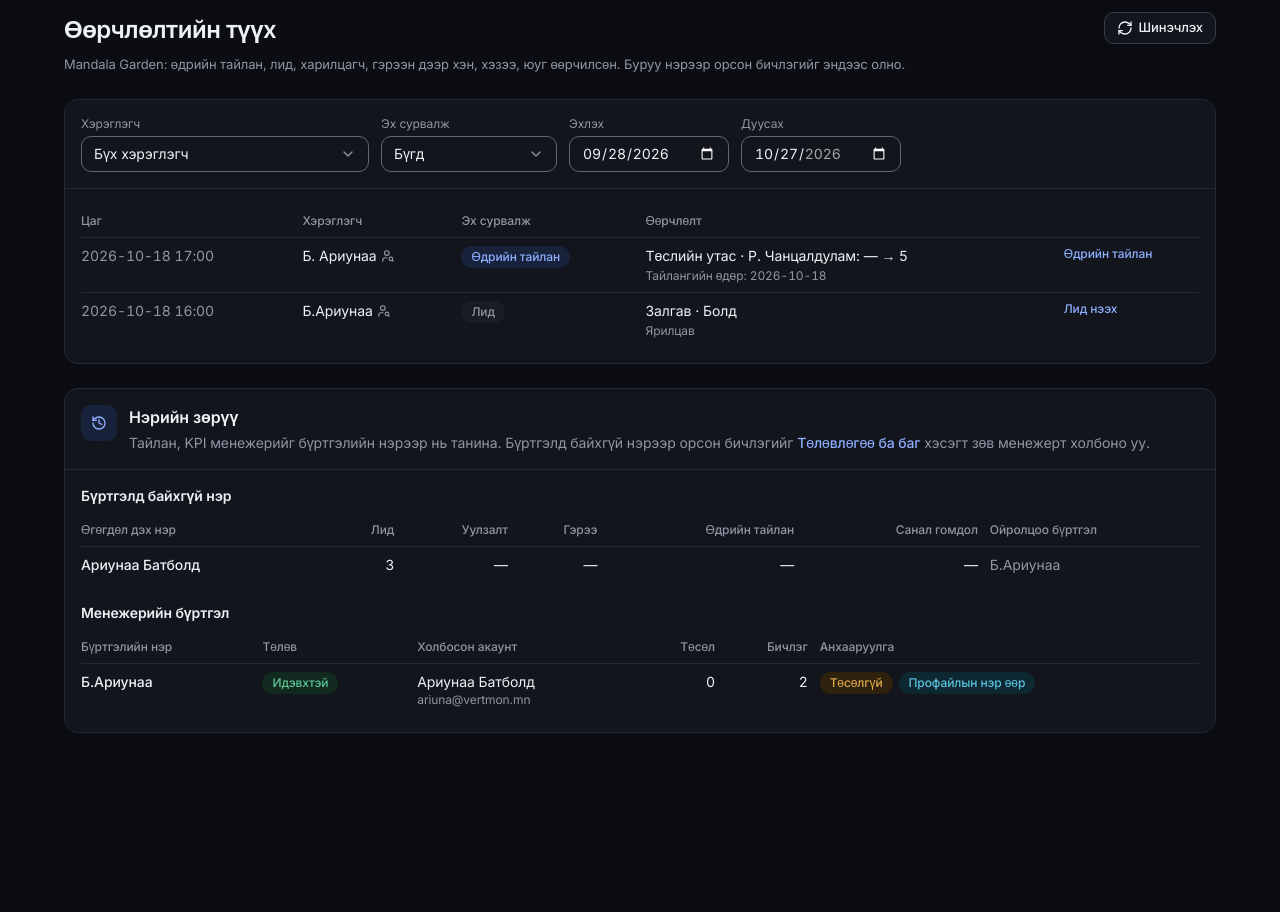
it: /admin/history › хэрэглэгчийн нэр дээр дарахад зөвхөн түүний түүхийг асууна
The image size is (1280, 912).
Step 1. Click the button titled "Зөвхөн энэ хэрэглэгчийн түүх" → (348, 256), box [302, 246, 395, 266]
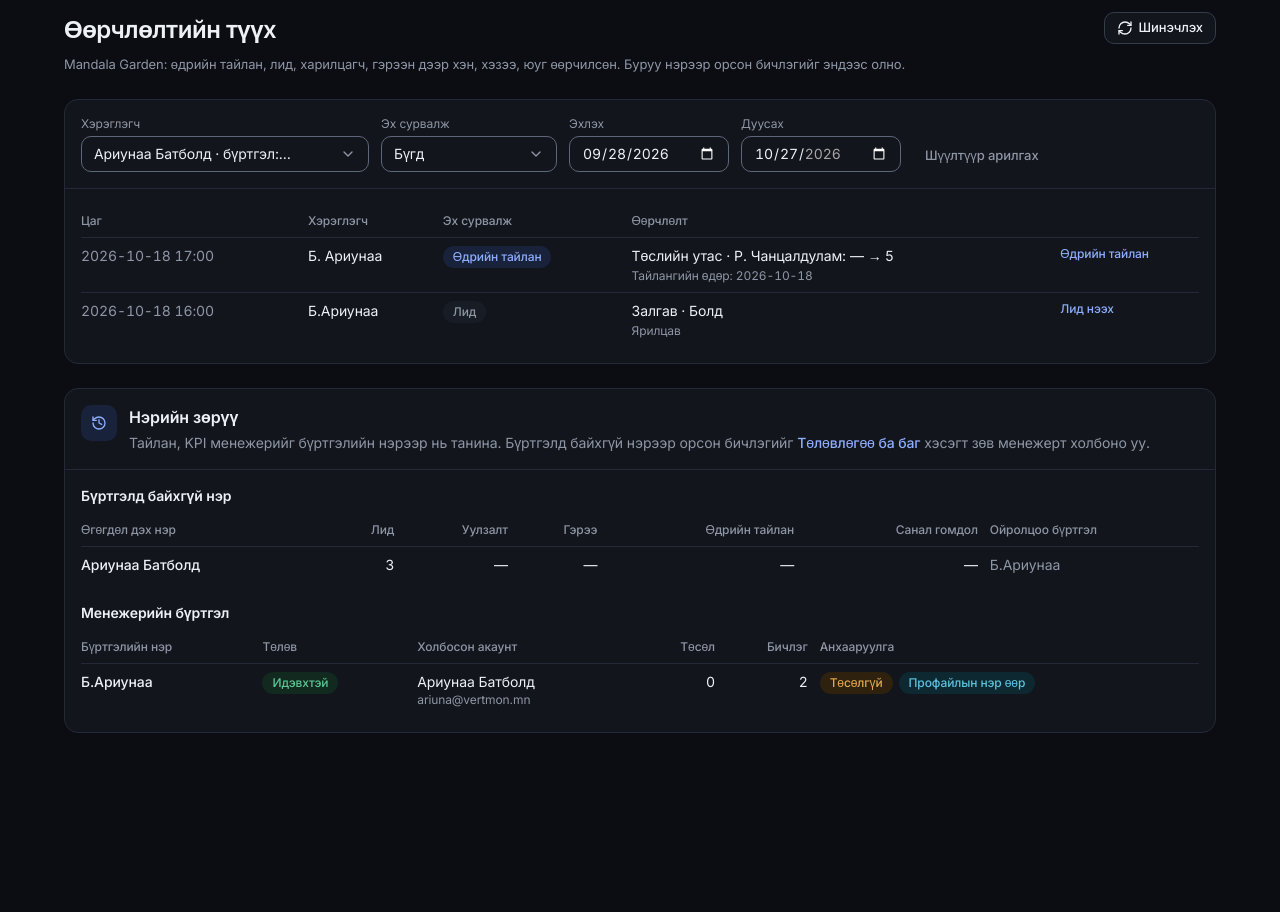
Now the button "Шүүлтүүр арилгах" is shown, box [913, 140, 1050, 172]
